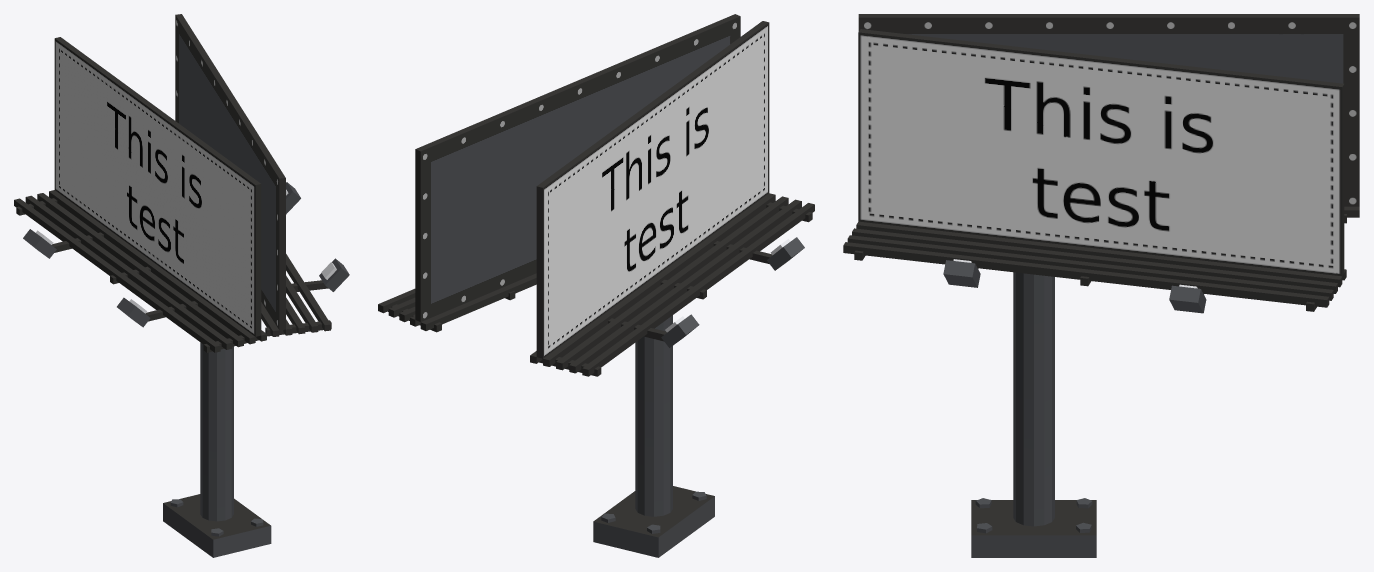
Rendered from Billboard.glb.
The picture shows the model from 3 angles, left to right: view 1: azimuth 30°, elevation 25°; view 2: azimuth 150°, elevation 25°; view 3: azimuth 270°, elevation 25°; orthographic projection. The views are drawn at different scales.
Parts seen in each view (by area): view 1: Billboard_2; view 2: Billboard_2; view 3: Billboard_2.
Boxes of the visible parts, x1,y1,x2,y2 form: Billboard_2: (14,14,349,557); Billboard_2: (378,14,814,557); Billboard_2: (843,14,1359,557).
Bounding box in the file's own units: 220 × 335 × 309.
Materials: 1 (1 with a texture image).
